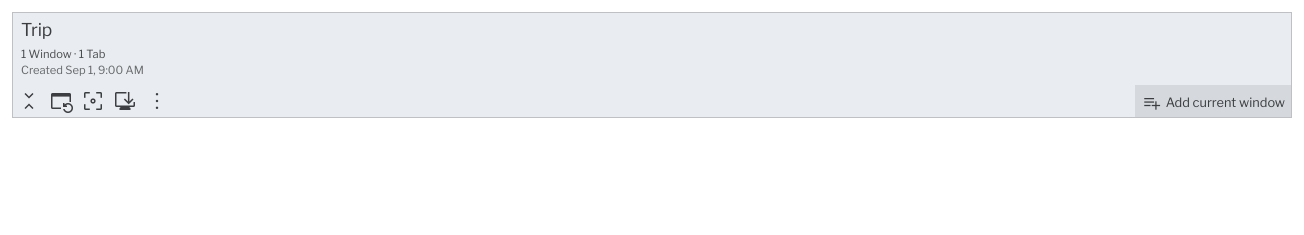
the header › its right-click leads with Open · Switch · Replace and has no Add current window: the Add chip sits beside it
Right-click the button "Trip" at (37, 29), box [13,13,60,45]
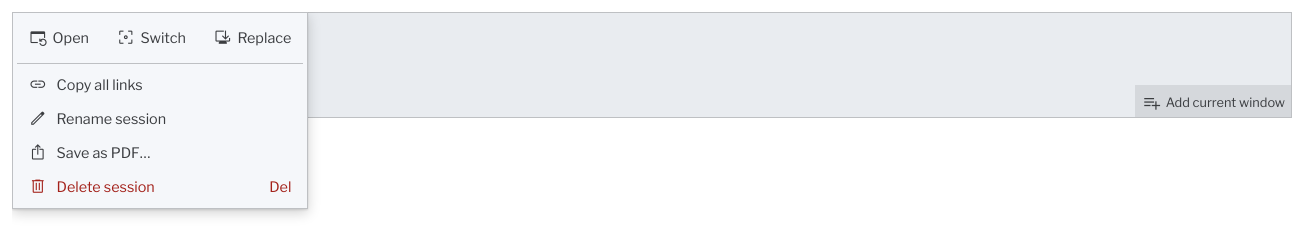
Now the number of menus is 1, box [12,12,308,209]
